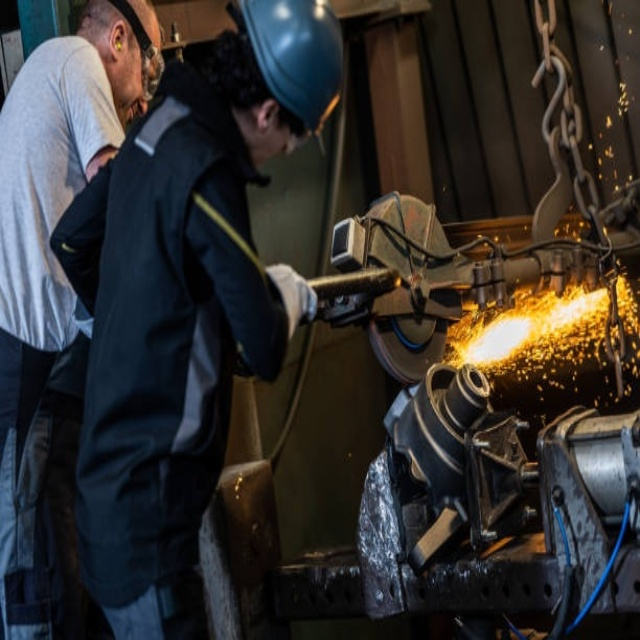Gafas: (140, 35, 167, 102)
Guantes: (265, 262, 317, 337)
Sin_mascara: (118, 89, 144, 132)
